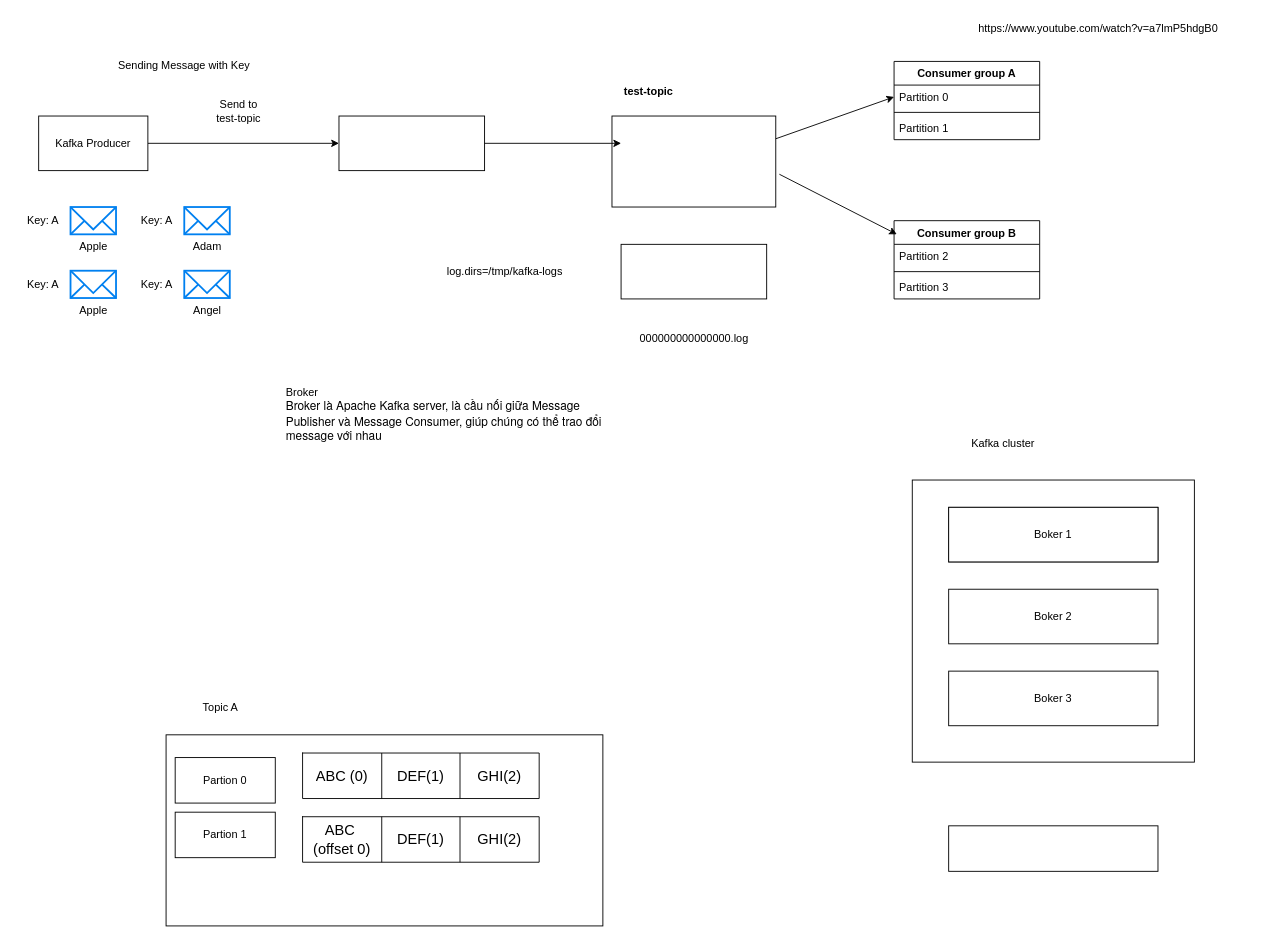
Some shapes in this 1265 by 942 pixel diagram are drawn without their labels. The centre of each missing label's shape, as x and y in pixels:
File system: point (693, 271)
Partition 0 Partition 1 Partition 2 Partition 3: point (693, 161)
Partitioner: point (411, 143)
Zookeeper: point (1053, 848)
